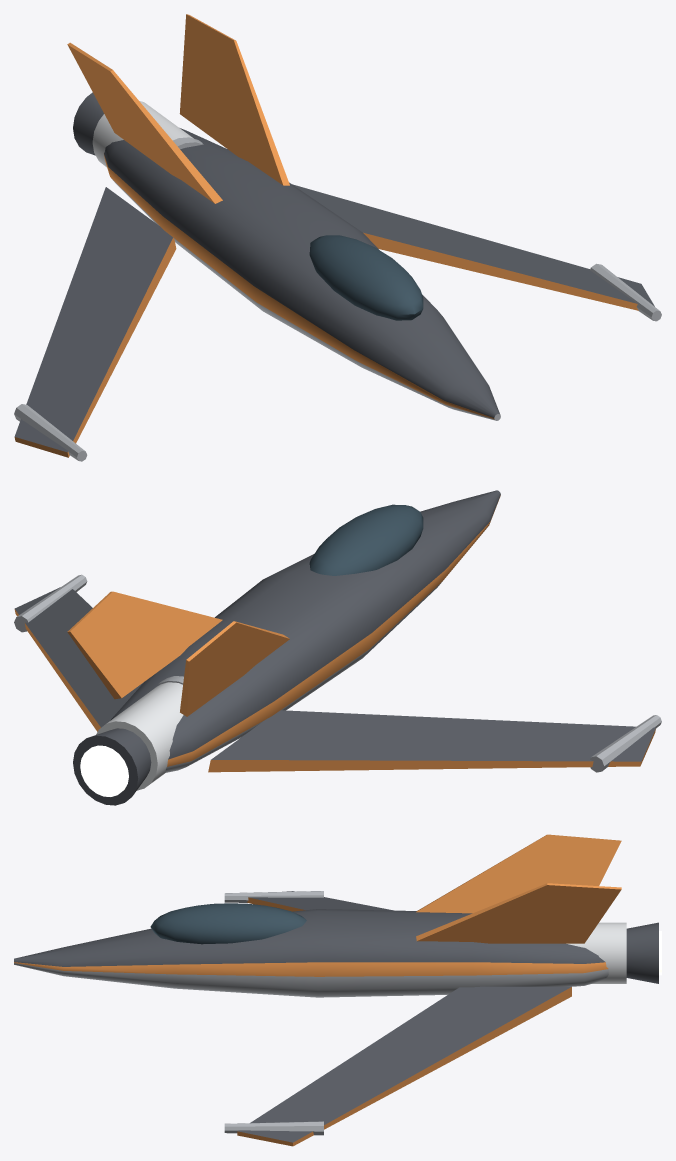
The model's file is ship_pirate.fbx.
3 renders of one model, top to bottom at view 1: azimuth 30°, elevation 25°; view 2: azimuth 150°, elevation 25°; view 3: azimuth 270°, elevation 25°, orthographic. The views are drawn at different scales.
Visible parts, largest first — view 1: Body; view 2: Body; view 3: Body.
Boxes of the visible parts, x1=… form: Body: x1=14, y1=14, x2=661, y2=461; Body: x1=14, y1=490, x2=661, y2=805; Body: x1=14, y1=834, x2=661, y2=1146.
Size of the model in its own units: 9.6 by 2.89 by 10.45.
